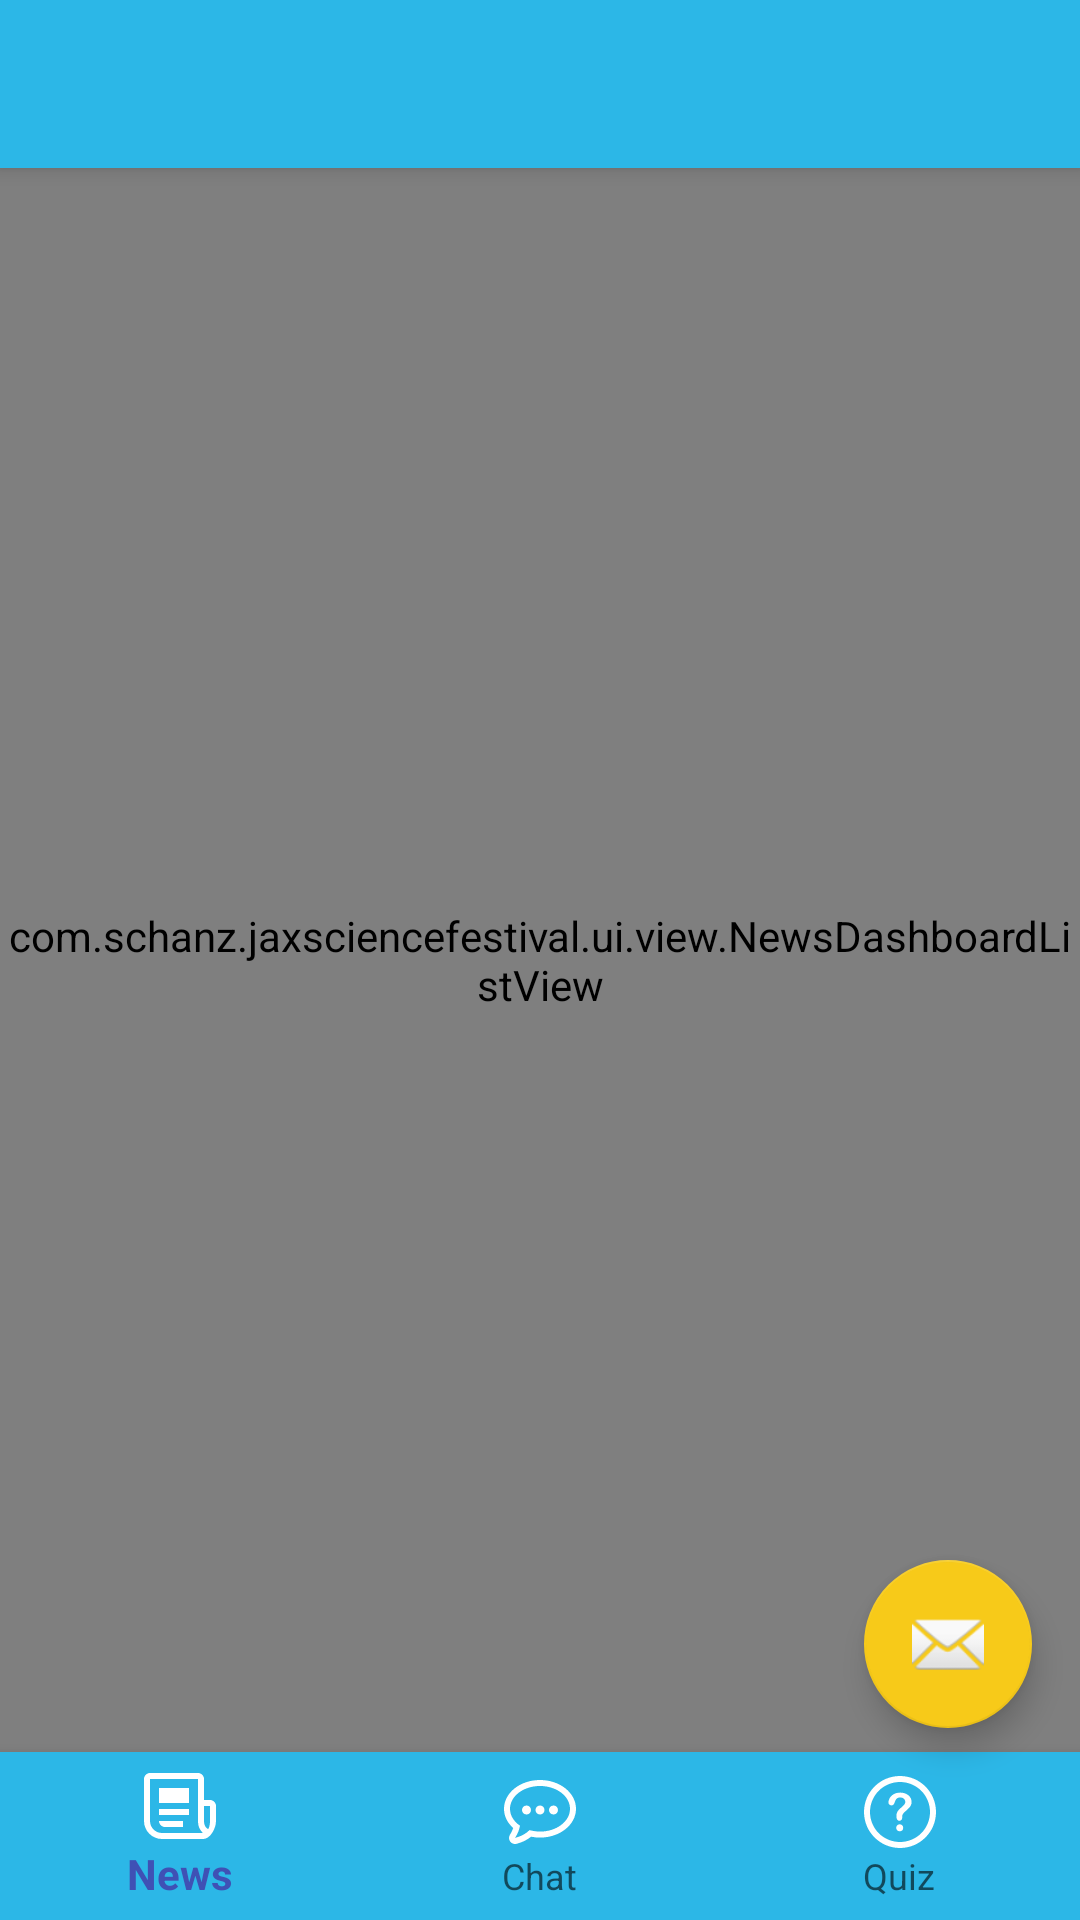

Named icons in this screenshot (1080 x 1920) and their bounding boxes, (x1, y1, x2, y2):
email: (864, 1560, 1032, 1728)
